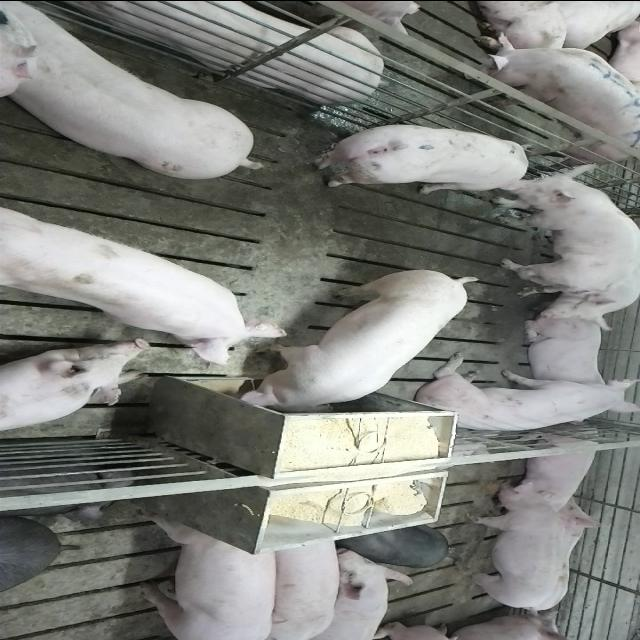Feeding: (4, 199, 294, 370), (233, 271, 479, 421)
Sitting: (412, 354, 636, 436)
Standing: (5, 6, 267, 184), (448, 28, 640, 158), (133, 510, 275, 639), (306, 121, 534, 196), (457, 482, 561, 612), (277, 549, 413, 640), (264, 530, 339, 640)
Sternal_lying: (46, 0, 410, 100), (0, 343, 150, 438), (519, 299, 610, 394), (507, 429, 604, 508)
